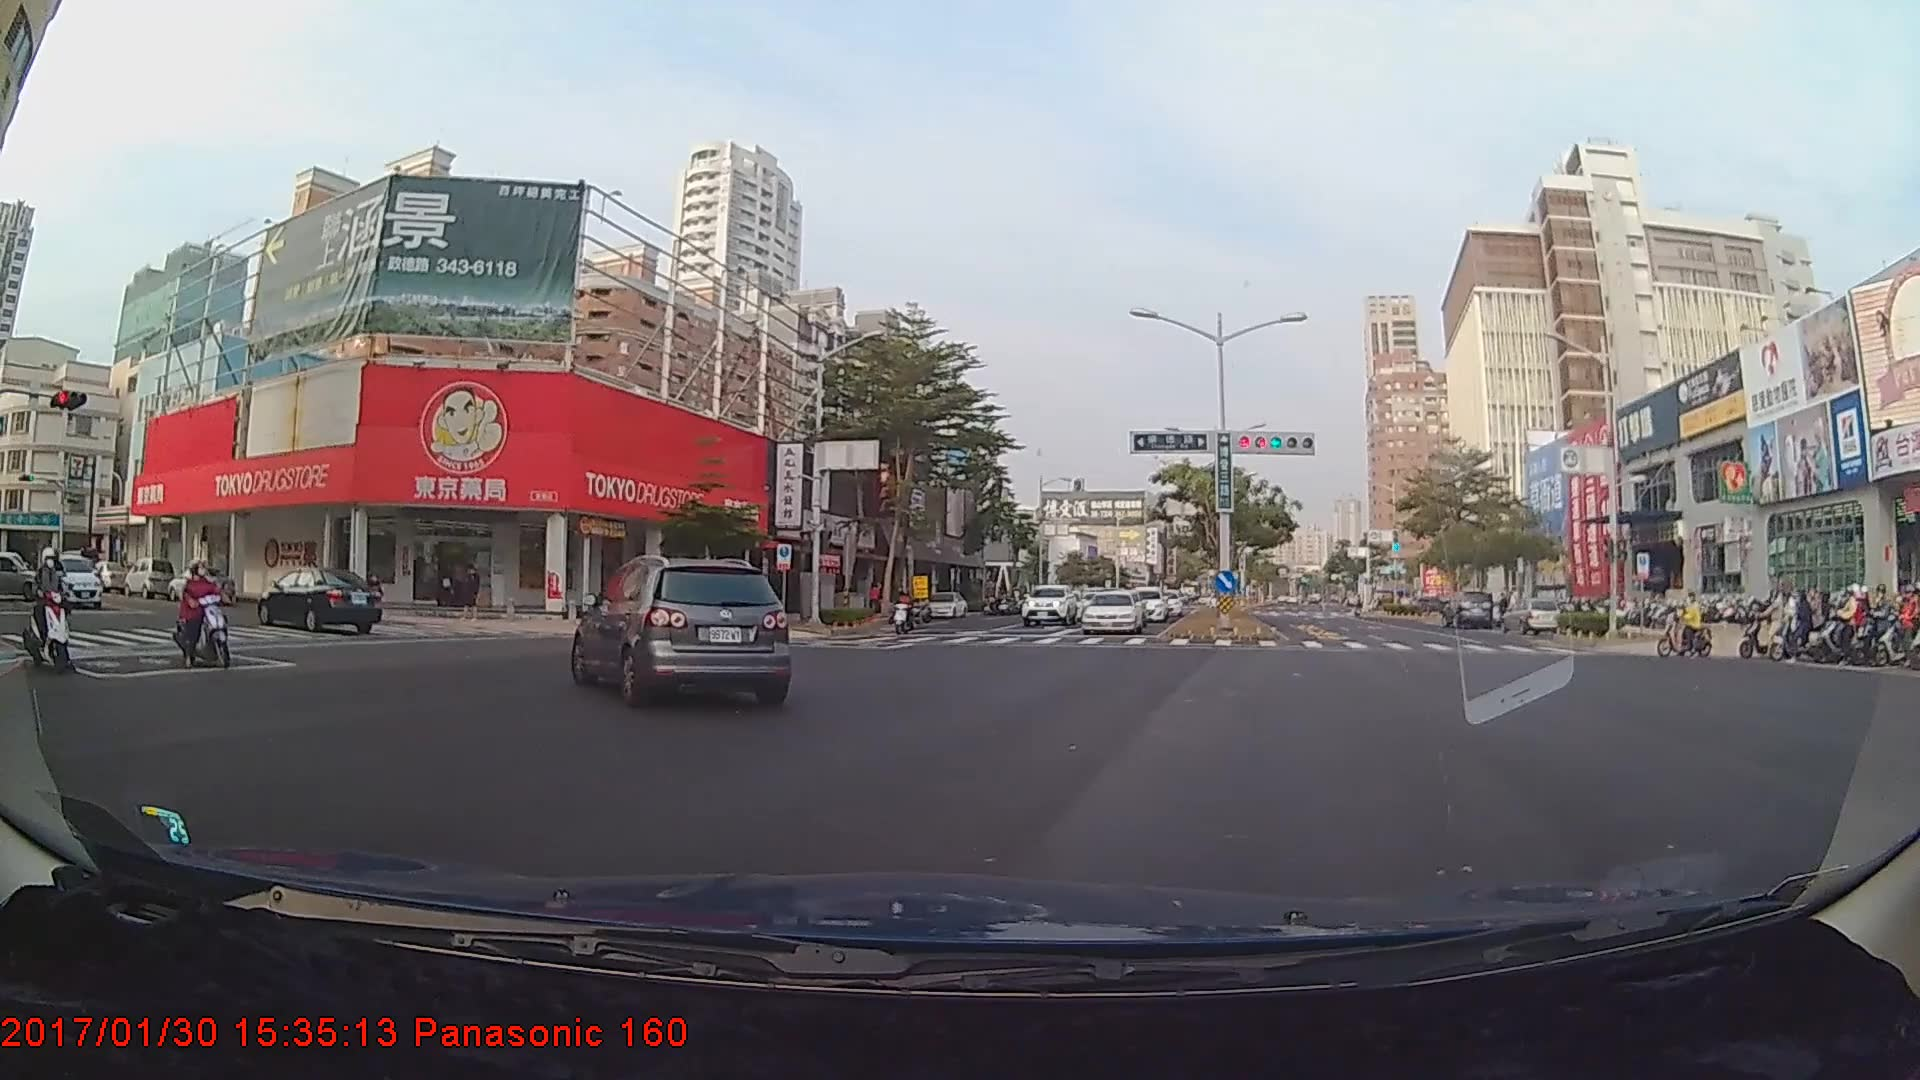rider: (168, 560, 232, 675), (18, 555, 79, 675), (1797, 586, 1871, 664), (1734, 599, 1811, 662), (1653, 585, 1713, 658), (889, 585, 913, 638)
vehicle: (569, 551, 789, 706), (258, 566, 382, 636), (41, 554, 102, 608), (1080, 590, 1144, 634), (1020, 582, 1077, 626), (1440, 590, 1493, 627), (1122, 585, 1167, 621), (924, 591, 966, 620)
